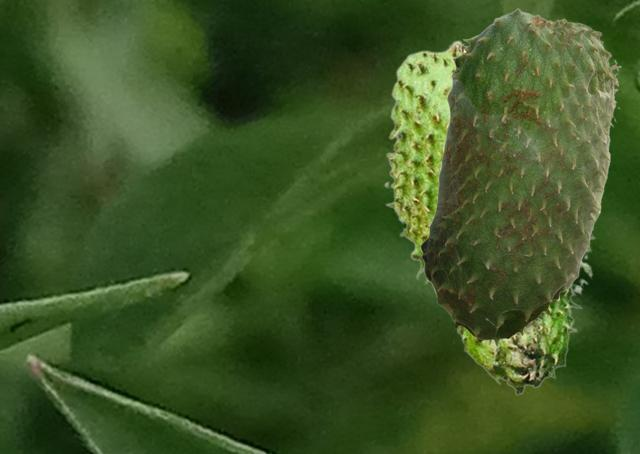guyabano: (383, 39, 596, 395), (418, 7, 620, 345)
